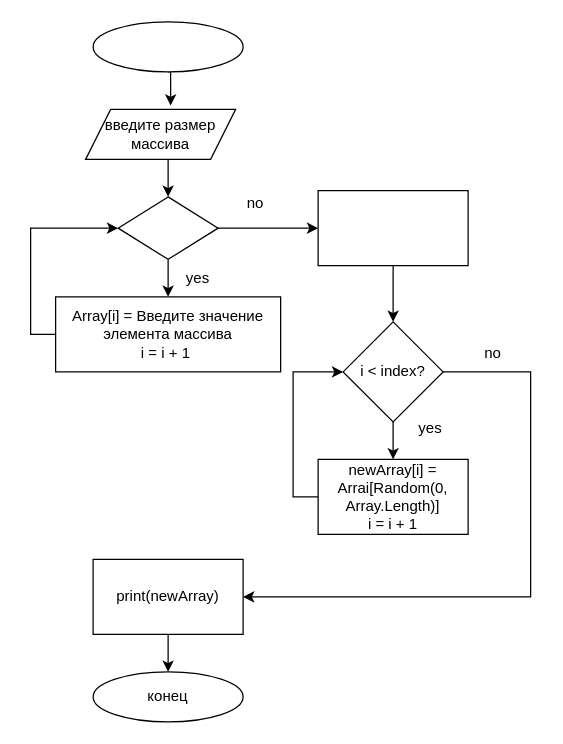
This 563x744 diagram has some shape labels left out. The shapes that lost their labels are listed below. From the top down, each one's centre as x and y in pixels, then its label:
At pixel 167 46: "Старт".
At pixel 167 227: "i < size?".
At pixel 392 227: "newArray[index] = Random(1, 3)".
